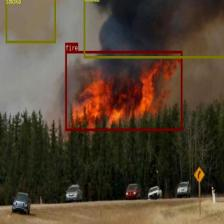fire: (65, 50, 182, 130)
smoke: (83, 0, 224, 58), (5, 0, 56, 43)
